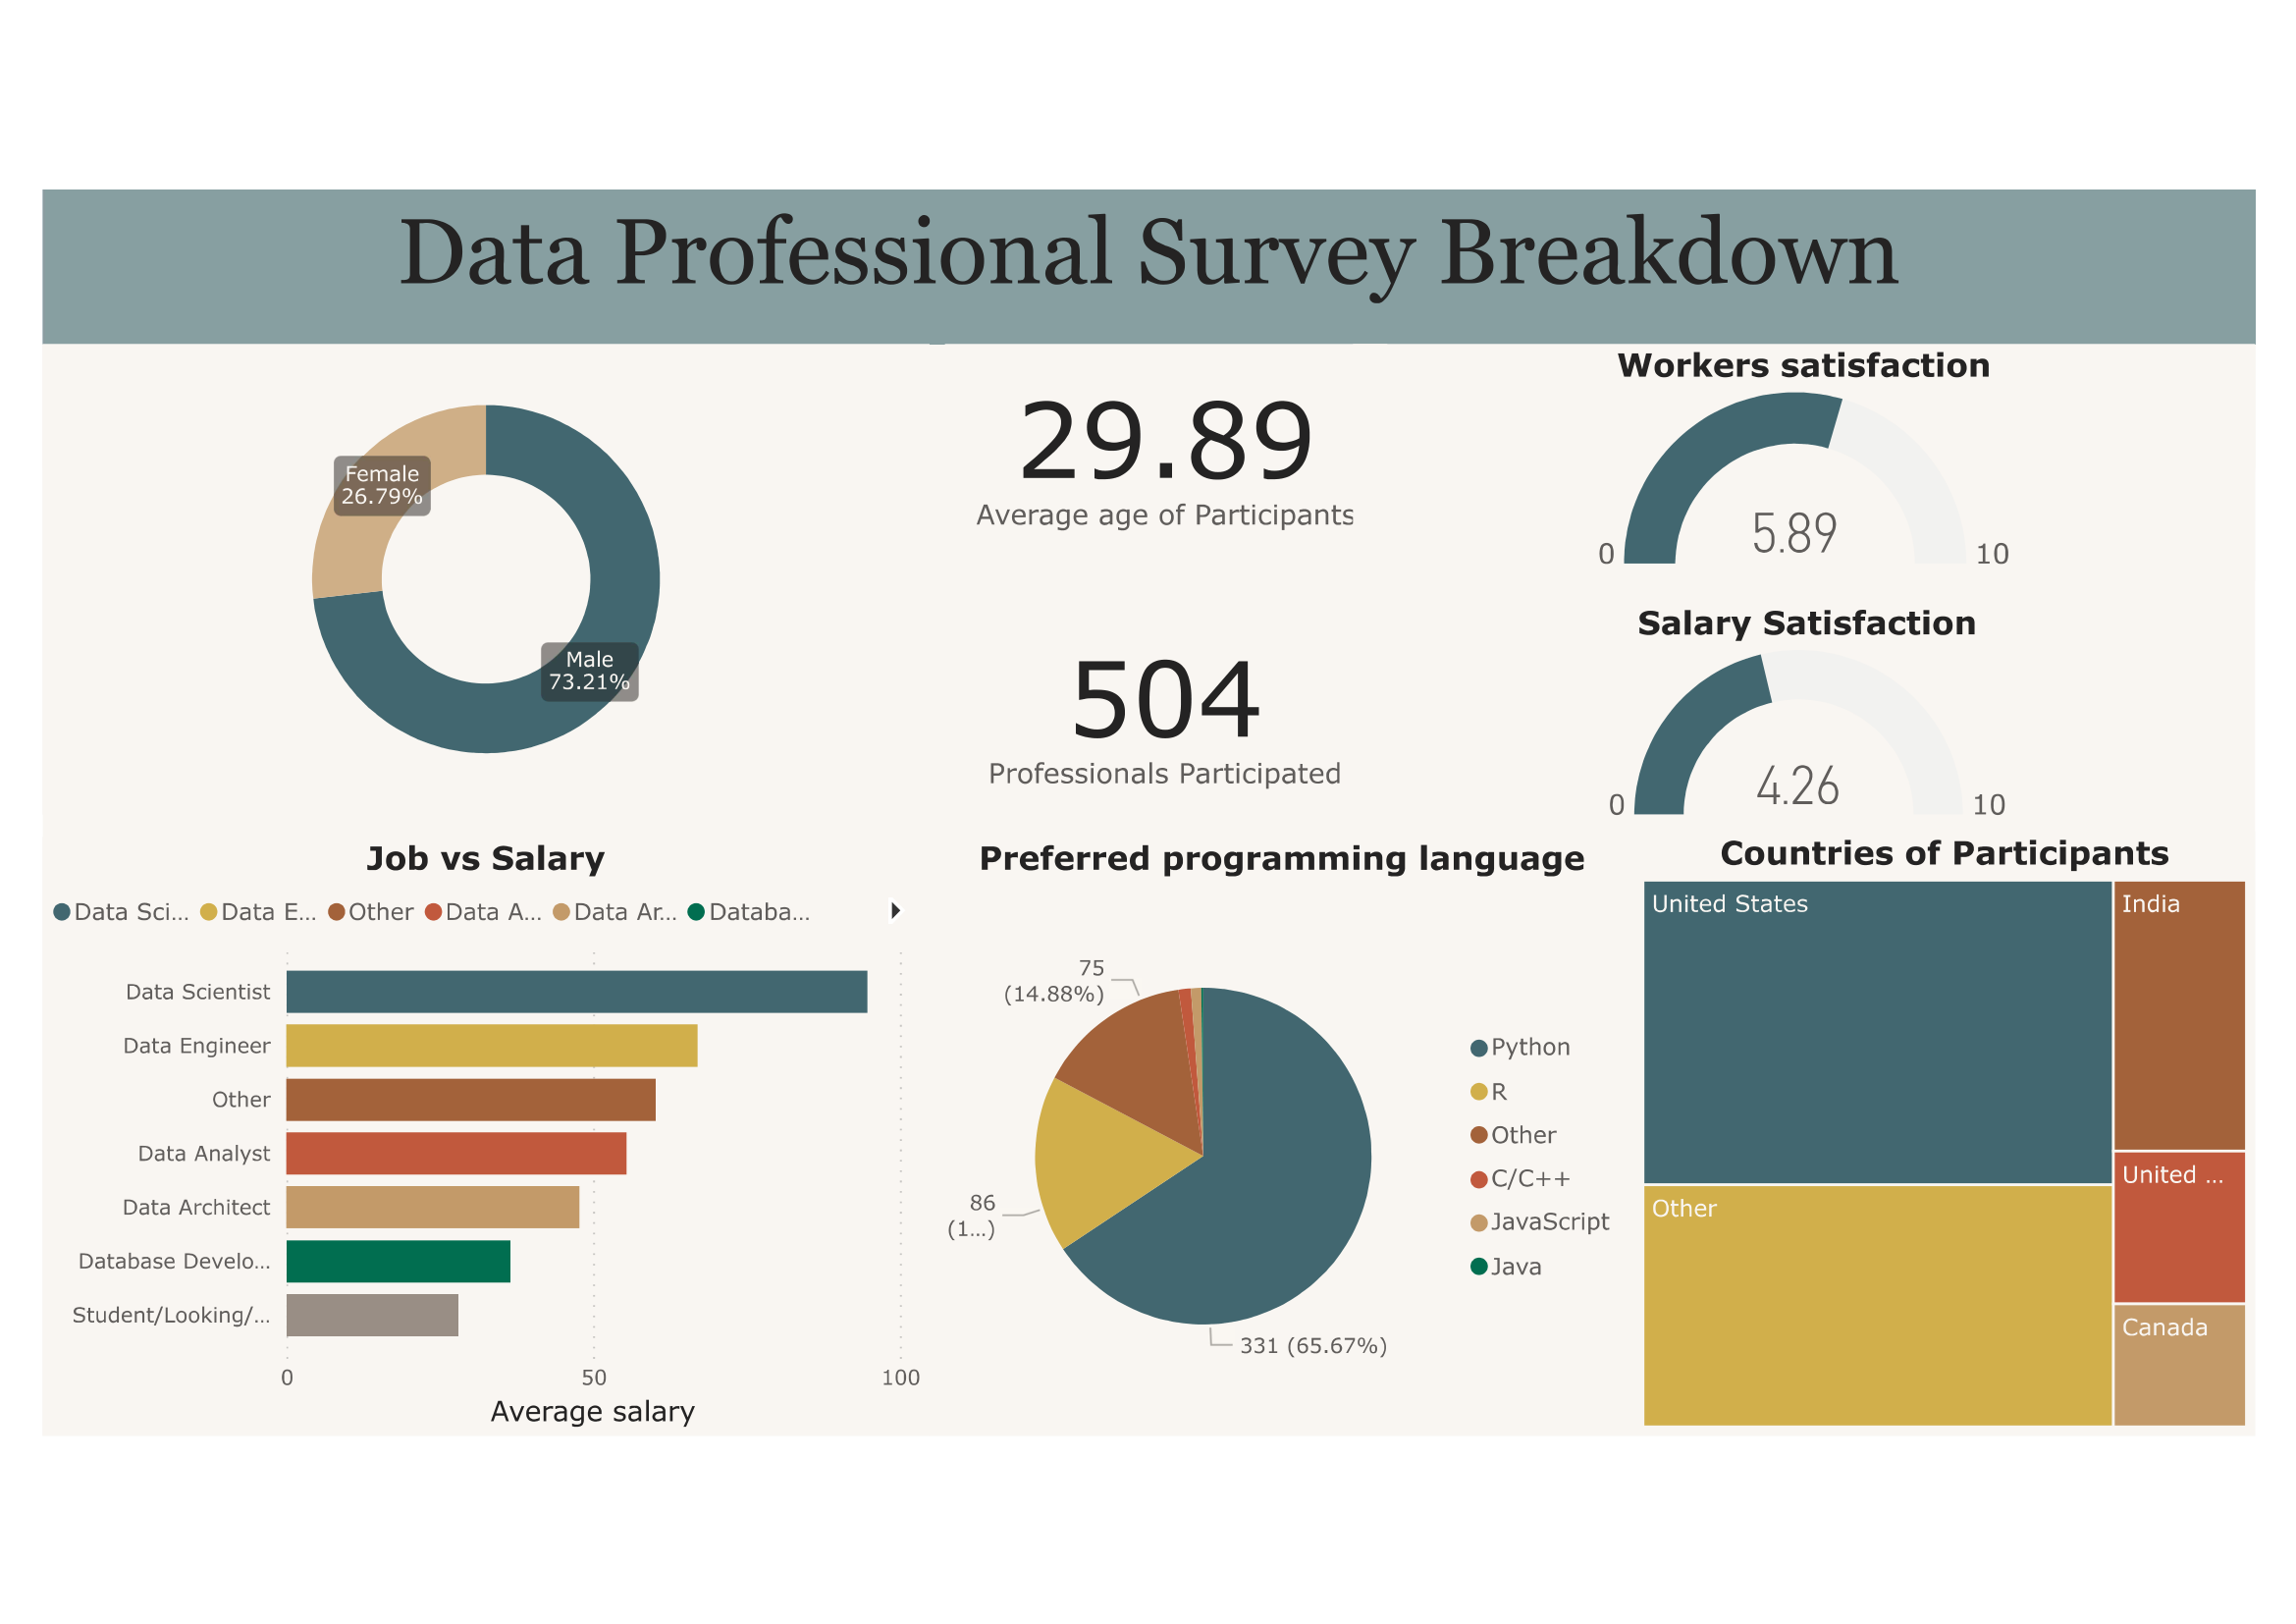

What the dashboard file says about the page in this screenshot:
{"tool":"powerbi","page":{"name":"Page 1","canvas":[1280,720],"ordinal":0},"visuals":[{"type":"textbox","box":[0,0,1280,88.9],"z":0},{"type":"card","fields":{"Values":["Data Professional Survey.Email"]},"box":[516.7,238.2,265.1,122.5],"z":1000},{"type":"card","fields":{"Values":["Data Professional Survey.Q10 - Current Age"]},"box":[521.7,88.9,256.7,122.5],"z":2000},{"type":"barChart","title":"Job vs Salary","fields":{"Y":["Data Professional Survey.Average salary"],"Category":["Data Professional Survey.Q1 - Which Title Best Fits your Current Role?.1"],"Series":["Data Professional Survey.Q1 - Which Title Best Fits your Current Role?.1"]},"box":[0,374.1,513.3,345.6],"z":3000},{"type":"pieChart","title":"Preferred programming language","fields":{"Y":["Data Professional Survey.Email"],"Category":["Data Professional Survey.Q5 - Favorite Programming Language.1"]},"box":[513.3,374.1,407.7,345.6],"z":3001},{"type":"treemap","title":"Countries of Participants","fields":{"Values":["Data Professional Survey.Q11 - Which Country do you live in?.1"],"Group":["Data Professional Survey.Q11 - Which Country do you live in?.1"]},"box":[921,370.7,359,348.9],"z":3002},{"type":"gauge","title":"Workers satisfaction","fields":{"Y":["Data Professional Survey.Q6 - How Happy are you in your Current Position with the following? (Coworkers)"],"MinValue":["Data Professional Survey.Q6 - How Happy are you in your Current Position with the following? (Coworkers)"],"MaxValue":["Data Professional Survey.Q6 - How Happy are you in your Current Position with the following? (Coworkers)"]},"box":[758.3,88.9,521.7,137.6],"z":3003},{"type":"gauge","title":"Salary Satisfaction","fields":{"Y":["Data Professional Survey.Q6 - How Happy are you in your Current Position with the following? (Salary)"],"MinValue":["Data Professional Survey.Q6 - How Happy are you in your Current Position with the following? (Salary)"],"MaxValue":["Data Professional Survey.Q6 - How Happy are you in your Current Position with the following? (Salary)"]},"box":[770,238.2,501.6,132.5],"z":3004},{"type":"donutChart","fields":{"Category":["Data Professional Survey.Q9 - Male/Female?"],"Y":["Data Professional Survey.Q9 - Male/Female?"]},"box":[0,88.9,513.3,271.8],"z":3005}]}

Visuals, with their boxes on the page's 1280x720 design canvas (x1, y1, x2, y2). These are canvas units, not pixel positions in the 2296x1624 screenshot, which may show the page scaled, cropped or inside an application window:
textbox: 0, 0, 1280, 89
card - Data Professional Survey.Email: 517, 238, 782, 361
card - Data Professional Survey.Q10 - Current Age: 522, 89, 778, 211
"Job vs Salary" barChart: 0, 374, 513, 720
"Preferred programming language" pieChart: 513, 374, 921, 720
"Countries of Participants" treemap: 921, 371, 1280, 720
"Workers satisfaction" gauge: 758, 89, 1280, 226
"Salary Satisfaction" gauge: 770, 238, 1272, 371
donutChart - Data Professional Survey.Q9 - Male/Female? x Data Professional Survey.Q9 - Male/Female?: 0, 89, 513, 361
